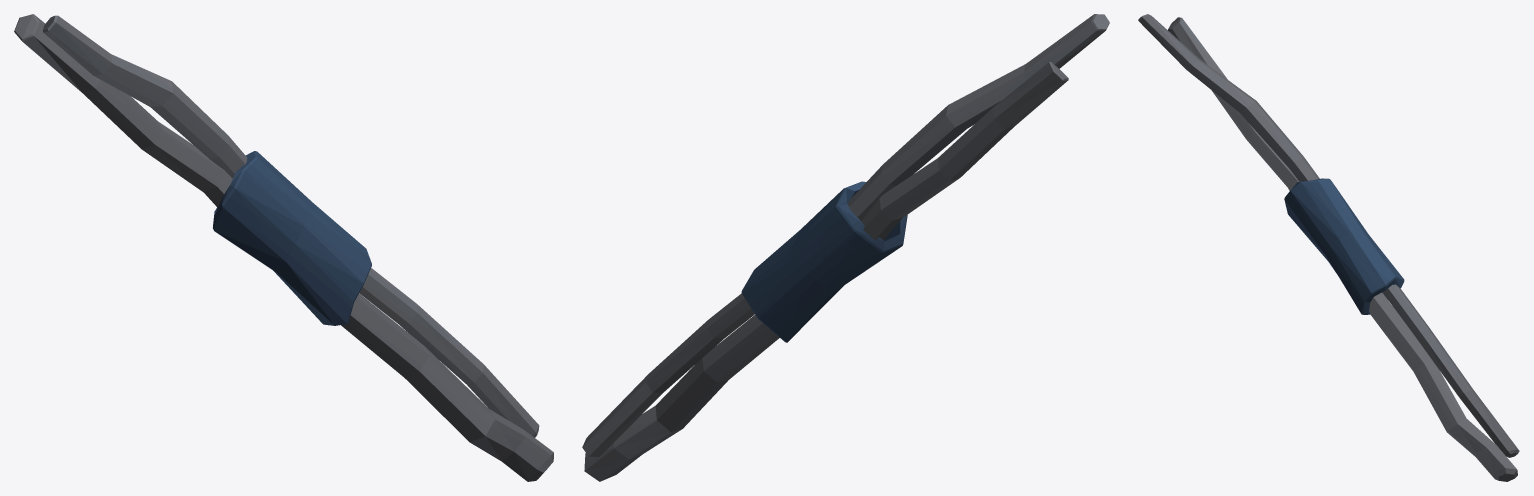
Rendered from CharSkyKid_Prop_AP10Tent_01.glb.
3 renders of one model, left to right at view 1: azimuth 30°, elevation 25°; view 2: azimuth 150°, elevation 25°; view 3: azimuth 330°, elevation 25°, orthographic. The views are drawn at different scales.
Parts seen in each view (by area): view 1: CharSkyKid_Prop_AP10Tent_01; view 2: CharSkyKid_Prop_AP10Tent_01; view 3: CharSkyKid_Prop_AP10Tent_01.
Boxes of the visible parts, x1,y1,x2,y2 form: CharSkyKid_Prop_AP10Tent_01: (14,14,553,481); CharSkyKid_Prop_AP10Tent_01: (582,14,1109,481); CharSkyKid_Prop_AP10Tent_01: (1138,14,1519,481).
Bounding box in the file's own units: 7.03 × 7.6 × 1.15.
Materials: 1 (1 with a texture image).
